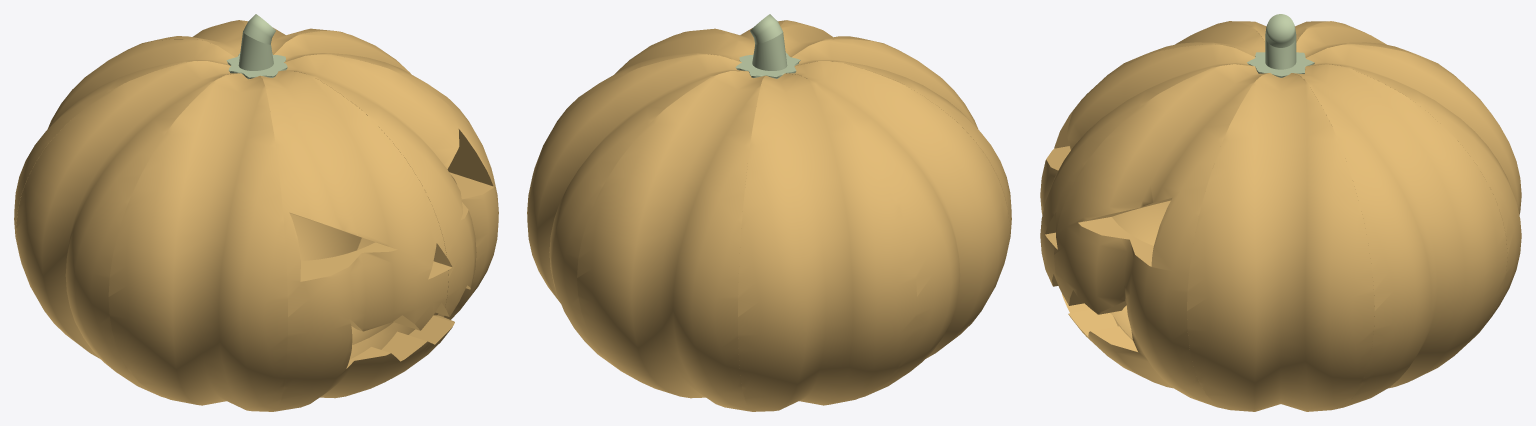
The model's file is sweethome3d-contributions-pumpkin.glb.
3 renders of one model, left to right at view 1: azimuth 30°, elevation 25°; view 2: azimuth 150°, elevation 25°; view 3: azimuth 270°, elevation 25°, orthographic.
Parts seen in each view (by area): view 1: Quartier_5, Quartier_6, Quartier, Quartier_7, Quartier_1, Quartier_4, Quartier_3, Queue, Quartier_2, Extruded_Object_4; view 2: Quartier_1, Quartier_2, Quartier, Quartier_3, Quartier_5, Quartier_4, Queue, Quartier_6, Extruded_Object_4, Quartier_7; view 3: Quartier_4, Quartier_3, Quartier_7, Quartier_6, Quartier_2, Quartier_5, Quartier_1, Queue, Extruded_Object_4.
Boxes of the visible parts, x1=… form: Quartier_5: x1=108, y1=73, x2=287, y2=411; Quartier_6: x1=260, y1=71, x2=448, y2=411; Quartier: x1=16, y1=61, x2=239, y2=397; Quartier_7: x1=279, y1=54, x2=498, y2=378; Quartier_1: x1=14, y1=39, x2=234, y2=263; Quartier_4: x1=274, y1=31, x2=487, y2=344; Quartier_3: x1=240, y1=20, x2=361, y2=260; Queue: x1=238, y1=14, x2=275, y2=70; Quartier_2: x1=122, y1=20, x2=245, y2=57; Extruded_Object_4: x1=226, y1=53, x2=287, y2=79; Quartier_1: x1=738, y1=73, x2=916, y2=411; Quartier_2: x1=577, y1=71, x2=765, y2=411; Quartier: x1=786, y1=61, x2=1009, y2=397; Quartier_3: x1=527, y1=54, x2=746, y2=375; Quartier_5: x1=792, y1=39, x2=1011, y2=265; Quartier_4: x1=538, y1=31, x2=752, y2=157; Queue: x1=750, y1=14, x2=787, y2=70; Quartier_6: x1=780, y1=20, x2=901, y2=57; Extruded_Object_4: x1=735, y1=52, x2=800, y2=78; Quartier_7: x1=681, y1=20, x2=786, y2=54; Quartier_4: x1=1187, y1=73, x2=1374, y2=411; Quartier_3: x1=1293, y1=64, x2=1507, y2=409; Quartier_7: x1=1054, y1=64, x2=1268, y2=409; Quartier_6: x1=1040, y1=44, x2=1255, y2=339; Quartier_2: x1=1306, y1=44, x2=1521, y2=335; Quartier_5: x1=1086, y1=21, x2=1265, y2=245; Quartier_1: x1=1296, y1=21, x2=1457, y2=78; Queue: x1=1265, y1=14, x2=1296, y2=69; Extruded_Object_4: x1=1247, y1=52, x2=1314, y2=77.
Bounding box in the file's own units: 29.37 × 24.72 × 29.38.
